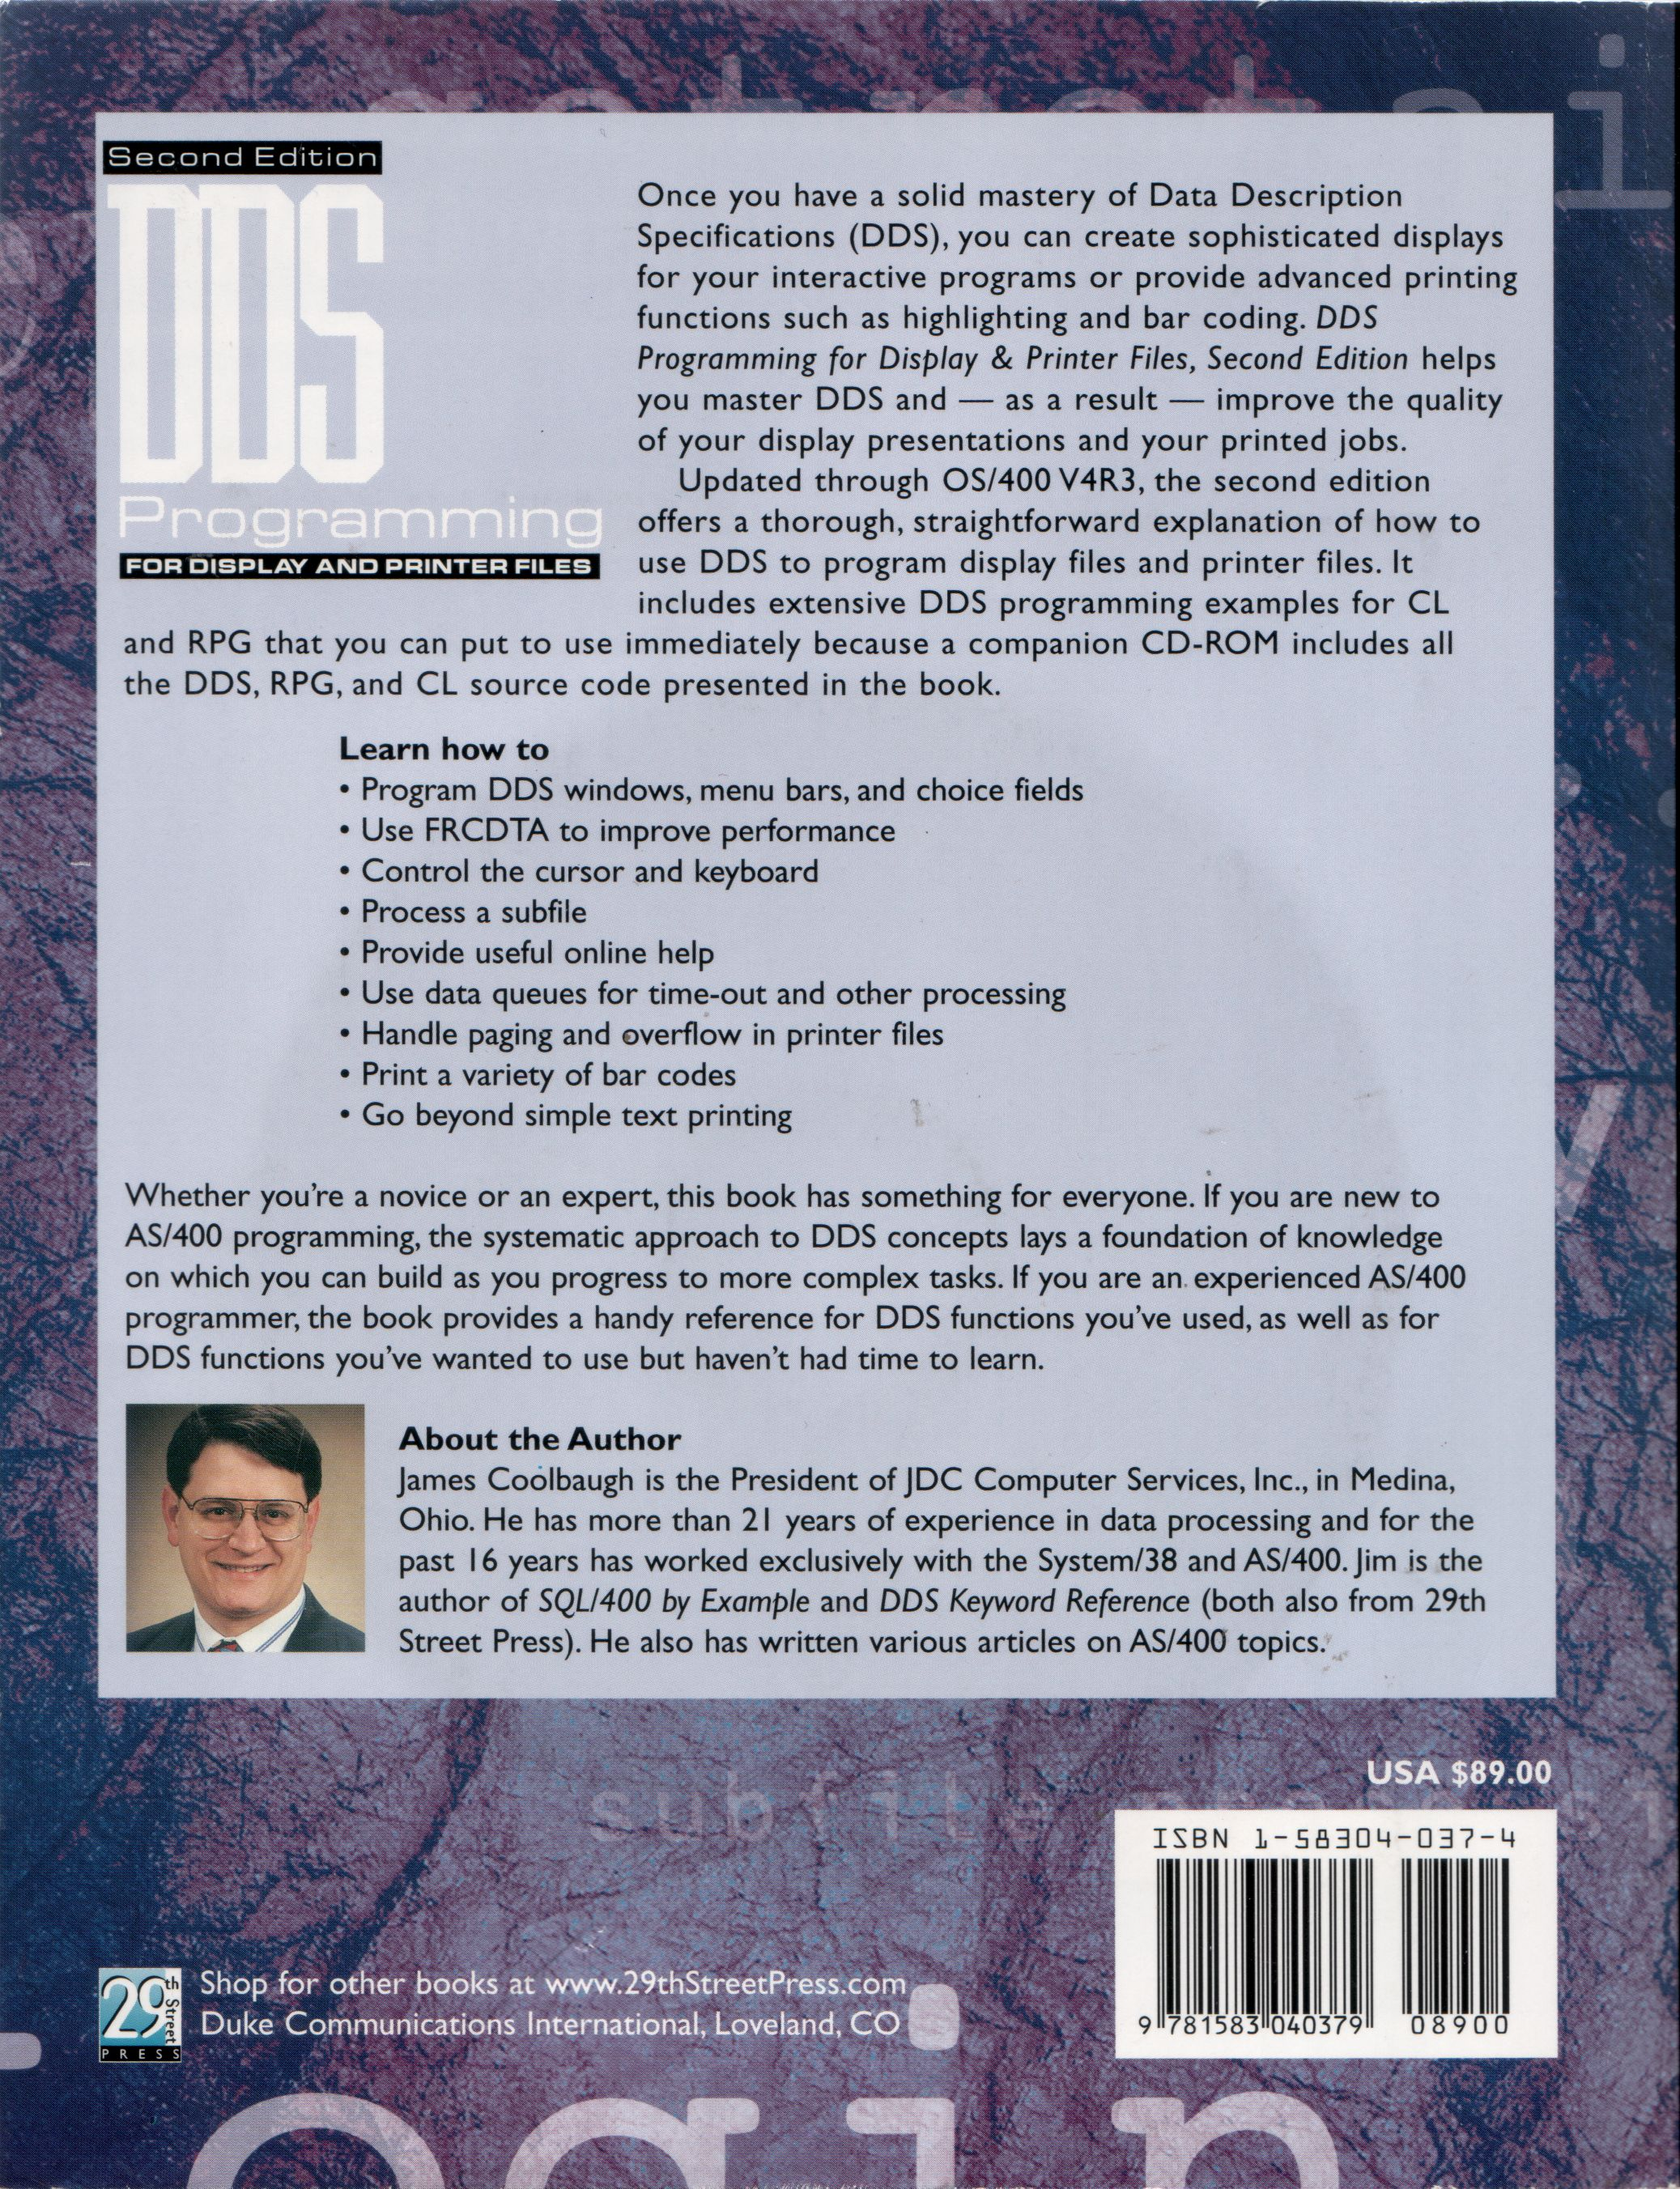barcode: (1129, 1824, 1516, 2043)
